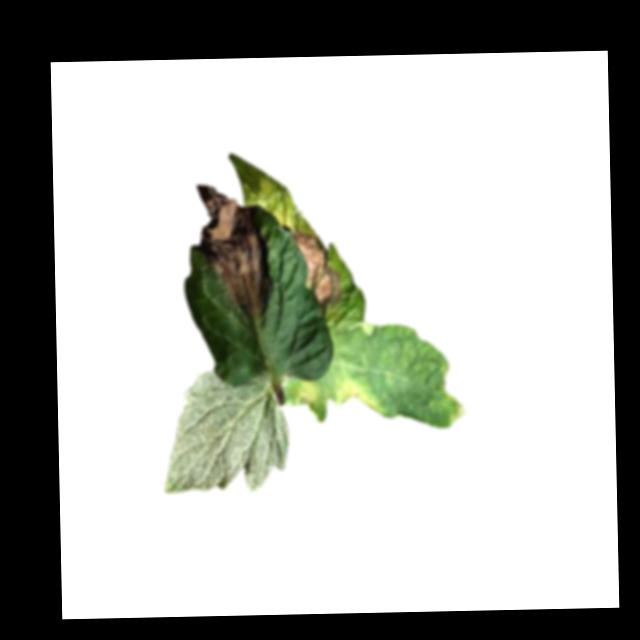Late_blight: (194, 182, 274, 324), (290, 230, 344, 313), (328, 370, 381, 412), (291, 377, 320, 409), (447, 394, 468, 427)
healthy: (158, 367, 290, 496)
